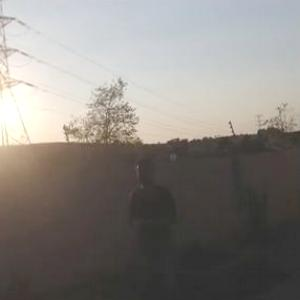follow: (126, 152, 183, 299)
